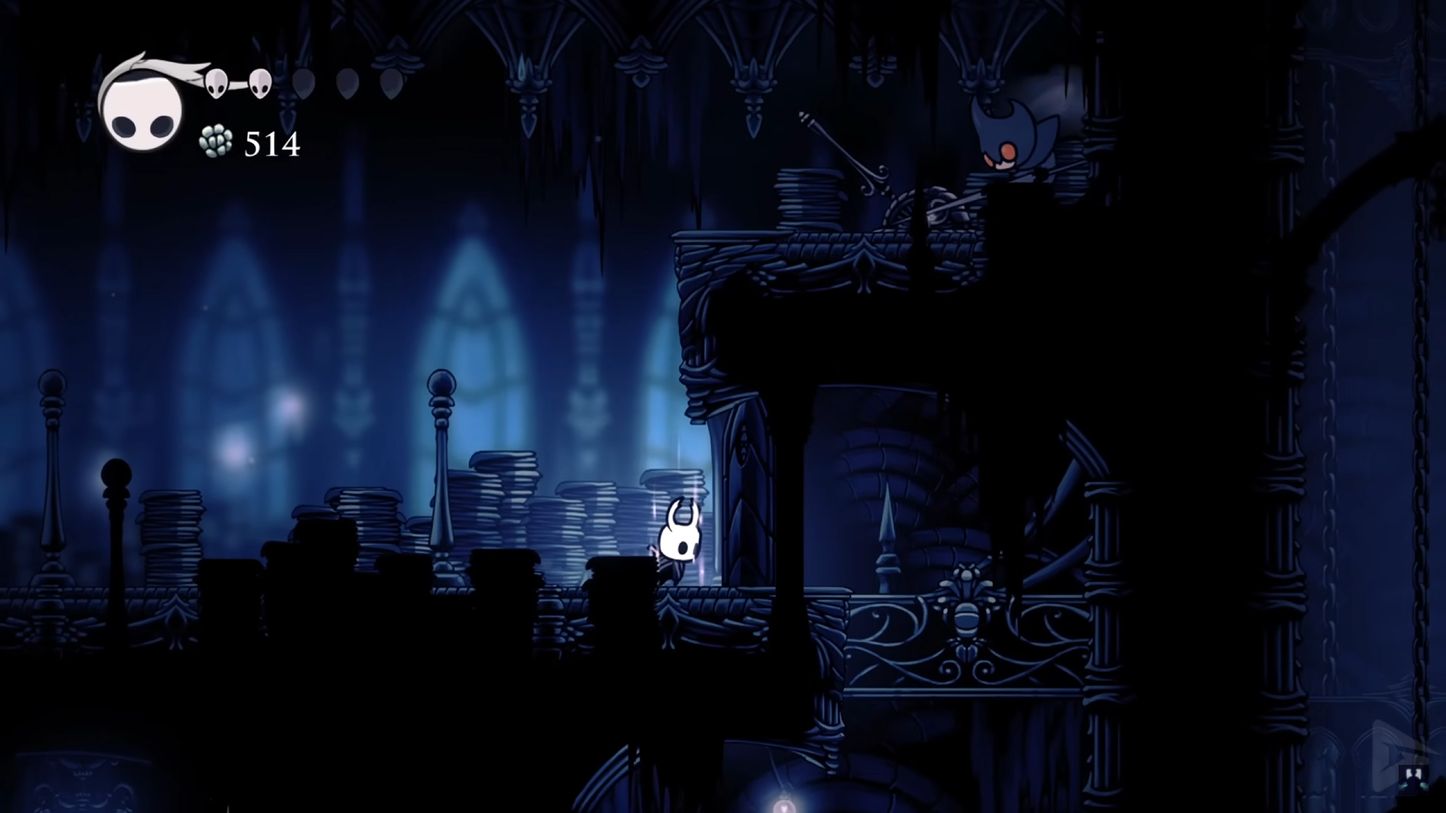HK: (648, 495, 705, 586)
